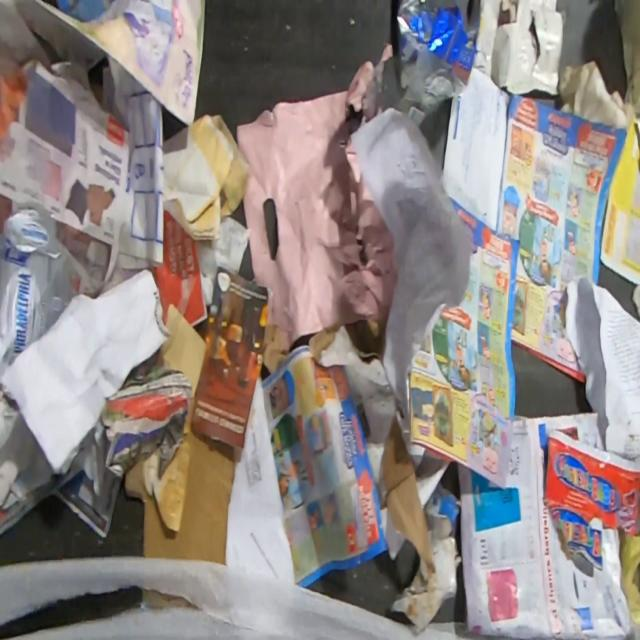cardboard: (307, 321, 452, 567), (123, 431, 235, 566), (0, 206, 75, 383), (158, 301, 208, 398)
soft_plastic: (234, 41, 398, 346), (395, 0, 502, 115)
